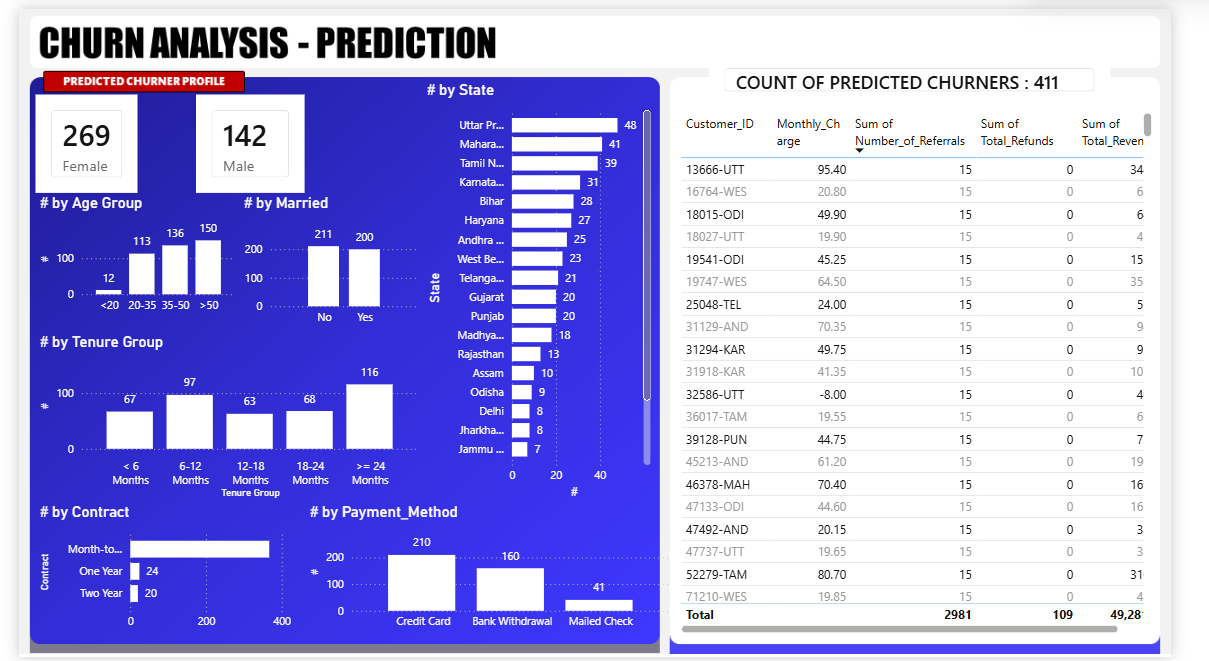

What the dashboard file says about the page in this screenshot:
{"tool":"powerbi","page":{"name":"Churn Prediction","canvas":[1280,720],"ordinal":1},"visuals":[{"type":"tableEx","fields":{"Values":["Predictions.Customer_ID","Predictions.Monthly_Charge","Sum(Predictions.Number_of_Referrals)","Sum(Predictions.Total_Refunds)","Sum(Predictions.Total_Revenue)"]},"box":[730,110,533.3,588.3],"z":0},{"type":"cardVisual","fields":{"Data":["tbl_Measures.Title Predicted Churner"]},"box":[767.2,49.1,446,60.5],"z":1000},{"type":"cardVisual","fields":{"Data":["tbl_Measures.Count Predicted Churner"]},"box":[18.9,94.5,113.4,109.6],"z":2000},{"type":"cardVisual","fields":{"Data":["tbl_Measures.Count Predicted Churner"]},"box":[196.5,94.5,120.9,109.6],"z":3000},{"type":"clusteredColumnChart","fields":{"Category":["mapping_AgeGrp.Age Group"],"Y":["CountNonNull(Predictions.Customer_ID)"]},"box":[18.3,205,226.7,141.7],"z":4000},{"type":"clusteredColumnChart","fields":{"Category":["Predictions.Married"],"Y":["CountNonNull(Predictions.Customer_ID)"]},"box":[245,205,191.7,141.7],"z":5000},{"type":"clusteredColumnChart","fields":{"Category":["mapping_TenureGrp.Tenure Group"],"Y":["CountNonNull(Predictions.Customer_ID)"]},"box":[18.3,360,300,188.3],"z":5002},{"type":"clusteredColumnChart","fields":{"Category":["Predictions.Contract"],"Y":["CountNonNull(Predictions.Customer_ID)"]},"box":[18.3,548.3,300,150],"z":5003},{"type":"clusteredColumnChart","fields":{"Category":["Predictions.Payment_Method"],"Y":["CountNonNull(Predictions.Customer_ID)"]},"box":[318.3,520,283.3,178.3],"z":5004},{"type":"clusteredBarChart","fields":{"Category":["Predictions.State"],"Y":["CountNonNull(Predictions.Customer_ID)"]},"box":[448.3,166.7,228.3,328.3],"z":5005},{"type":"shape","box":[448.3,0,228.3,65],"z":5006}]}

Visuals, with their boxes in screenshot pixels (x1, y1, x2, y2), scaled from the page's 1280x720 canvas onto the 1209x661 screenshot:
tableEx - Predictions.Customer_ID x Predictions.Monthly_Charge: select_region(690, 101, 1193, 641)
cardVisual - tbl_Measures.Title Predicted Churner: select_region(725, 45, 1146, 101)
cardVisual - tbl_Measures.Count Predicted Churner: select_region(18, 87, 125, 187)
cardVisual - tbl_Measures.Count Predicted Churner: select_region(186, 87, 300, 187)
clusteredColumnChart - mapping_AgeGrp.Age Group x CountNonNull(Predictions.Customer_ID): select_region(17, 188, 231, 318)
clusteredColumnChart - Predictions.Married x CountNonNull(Predictions.Customer_ID): select_region(231, 188, 412, 318)
clusteredColumnChart - mapping_TenureGrp.Tenure Group x CountNonNull(Predictions.Customer_ID): select_region(17, 330, 301, 503)
clusteredColumnChart - Predictions.Contract x CountNonNull(Predictions.Customer_ID): select_region(17, 503, 301, 641)
clusteredColumnChart - Predictions.Payment_Method x CountNonNull(Predictions.Customer_ID): select_region(301, 477, 568, 641)
clusteredBarChart - Predictions.State x CountNonNull(Predictions.Customer_ID): select_region(423, 153, 639, 454)
shape: select_region(423, 0, 639, 60)
